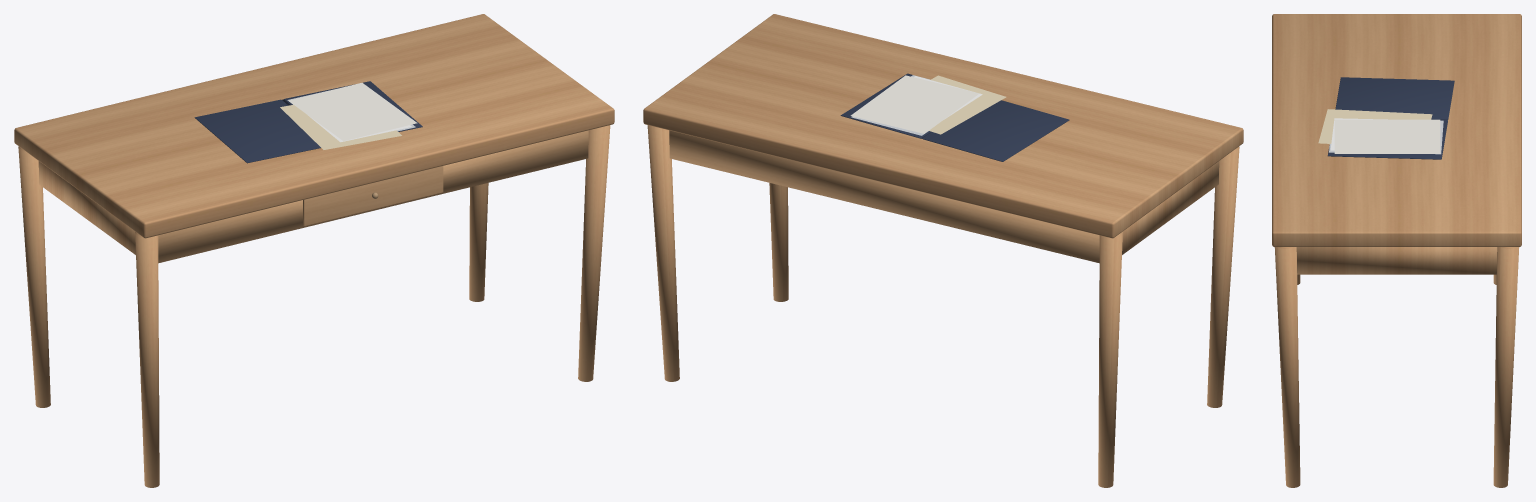
File: desk.glb
The picture shows the model from 3 angles, left to right: view 1: azimuth 30°, elevation 25°; view 2: azimuth 150°, elevation 25°; view 3: azimuth 270°, elevation 25°; orthographic projection. The views are drawn at different scales.
Visible parts, largest first — view 1: Desk_Top, Apron_F, Leg_-1_-1, Leg_1_-1, Leg_-1_1, Folder_Panel_L, Folder_Top, Drawer_Front, Apron_S-1, Leg_1_1, Folder_Sheet_2; view 2: Desk_Top, Apron_B, Leg_-1_1, Leg_1_1, Leg_-1_-1, Folder_Panel_L, Folder_Top, Apron_S-1, Leg_1_-1, Folder_Sheet_2; view 3: Desk_Top, Apron_S1, Leg_1_1, Leg_1_-1, Folder_Panel_L, Folder_Top, Folder_Sheet_2, Folder_Panel_R.
Boxes of the visible parts, bbox=[...] form: Desk_Top: bbox=[14, 14, 614, 238]; Apron_F: bbox=[158, 130, 588, 263]; Leg_-1_-1: bbox=[135, 232, 159, 487]; Leg_1_-1: bbox=[578, 125, 610, 381]; Leg_-1_1: bbox=[18, 146, 50, 407]; Folder_Panel_L: bbox=[194, 99, 320, 163]; Folder_Top: bbox=[288, 82, 417, 141]; Drawer_Front: bbox=[303, 166, 443, 226]; Apron_S-1: bbox=[38, 161, 135, 254]; Leg_1_1: bbox=[469, 183, 488, 301]; Folder_Sheet_2: bbox=[280, 104, 401, 149]; Desk_Top: bbox=[643, 14, 1243, 238]; Apron_B: bbox=[669, 130, 1099, 263]; Leg_-1_1: bbox=[1098, 232, 1122, 487]; Leg_1_1: bbox=[647, 125, 679, 381]; Leg_-1_-1: bbox=[1207, 146, 1239, 407]; Folder_Panel_L: bbox=[923, 100, 1069, 161]; Folder_Top: bbox=[850, 75, 979, 133]; Apron_S-1: bbox=[1122, 161, 1219, 254]; Leg_1_-1: bbox=[769, 183, 788, 301]; Folder_Sheet_2: bbox=[929, 75, 1006, 134]; Desk_Top: bbox=[1272, 14, 1521, 246]; Apron_S1: bbox=[1296, 247, 1497, 274]; Leg_1_1: bbox=[1493, 247, 1519, 487]; Leg_1_-1: bbox=[1274, 247, 1300, 487]; Folder_Panel_L: bbox=[1335, 77, 1454, 119]; Folder_Top: bbox=[1334, 119, 1440, 153]; Folder_Sheet_2: bbox=[1318, 109, 1432, 143]; Folder_Panel_R: bbox=[1327, 120, 1447, 159].
Size of the model in its own units: 1.38 by 0.7673 by 0.6604.
7 materials, 1 textured.
